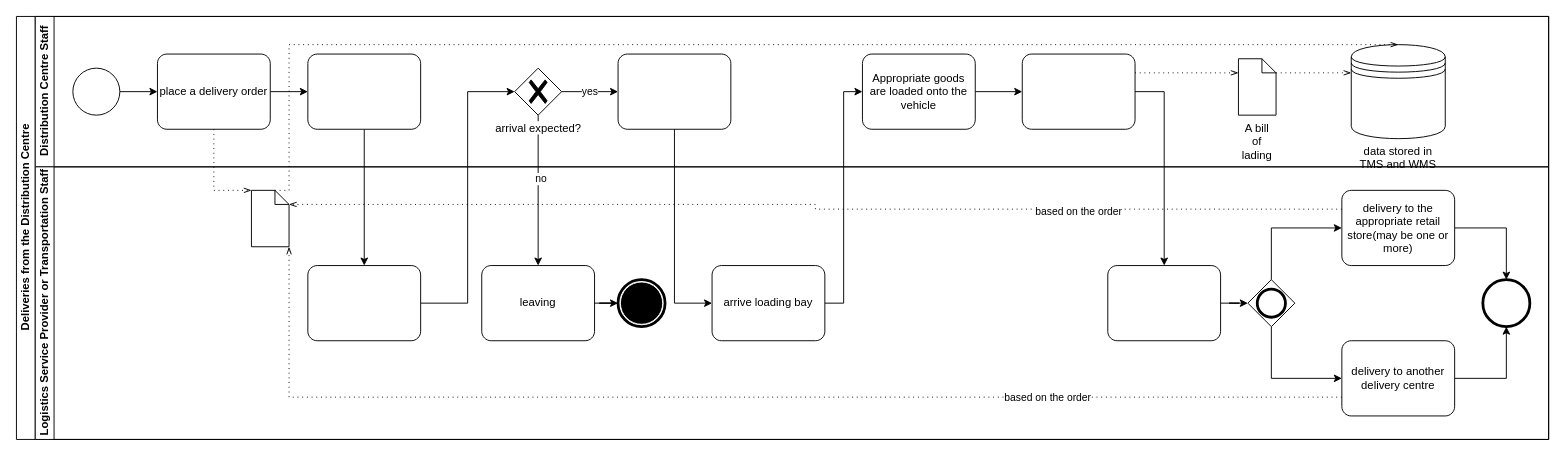
The diagram is 1565 pixels wide and 456 high, and some of its shapes have lost their labels. The shapes that lost their labels are listed below. From the top down, each one's centre as x and y in pixels, then its label:
At point 364,91: "arrange a time slot for arrival".
At point 674,91: "direct the expected driver to the allocated loading bay".
At point 1078,91: "A bill of lading is provided".
At point 270,218: "order created".
At point 364,303: "arriving at the gate and check in".
At point 1164,303: "leaving a warehouse".
